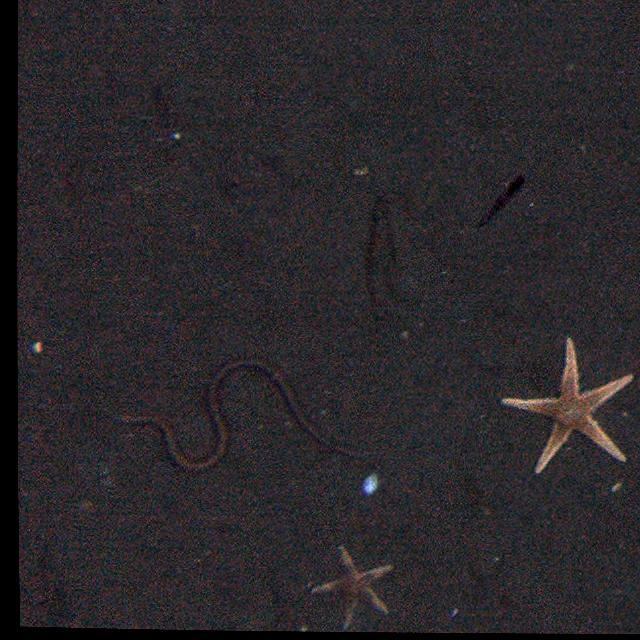eel: (111, 358, 367, 477)
